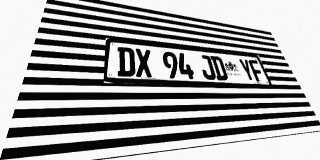4: (176, 52, 195, 79)
9: (162, 51, 181, 79)
D: (117, 47, 135, 77), (210, 56, 229, 80)
F: (248, 59, 266, 82)
J: (198, 55, 217, 80)
X: (135, 48, 153, 78)
Y: (238, 58, 256, 81)
